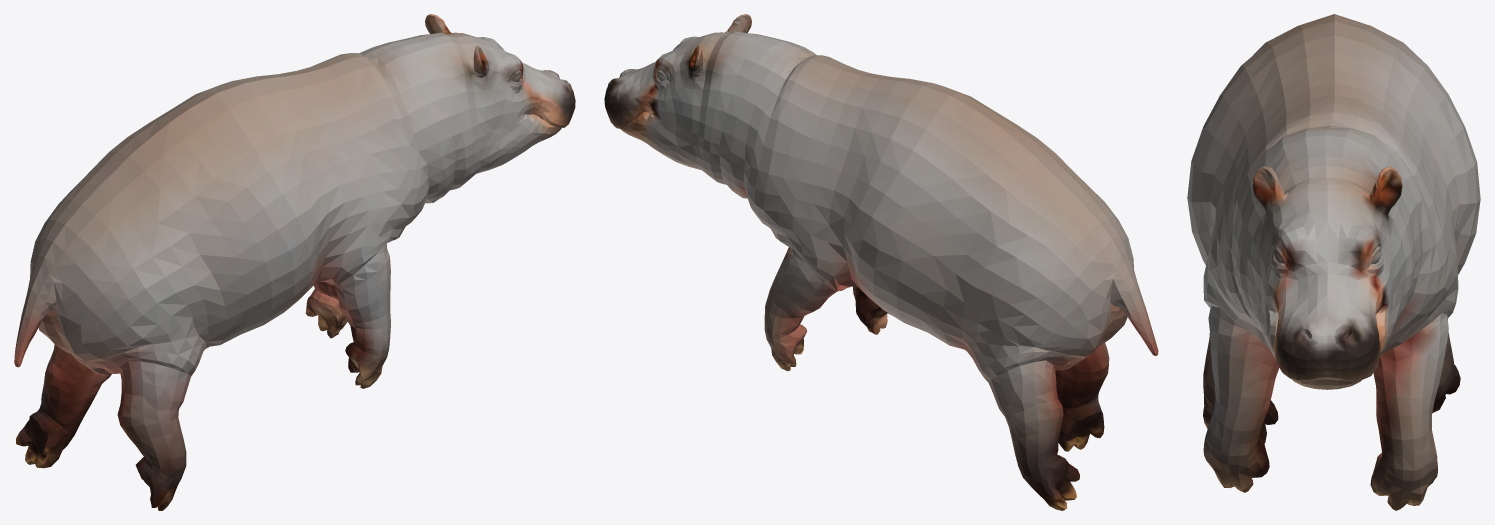
File: The_juvenile_hippopotamus_swims_low_i_f6625608990a.mesh.glb
3 views of the same model, side by side, from view 1: azimuth 30°, elevation 25°; view 2: azimuth 150°, elevation 25°; view 3: azimuth 270°, elevation 25° (orthographic). The views are drawn at different scales.
Parts seen in each view (by area): view 1: root; view 2: root; view 3: root.
Boxes of the visible parts, left/top/right/bottom form: root: left=14, top=14, right=575, bottom=510; root: left=604, top=14, right=1158, bottom=510; root: left=1187, top=14, right=1480, bottom=510.
Bounding box in the file's own units: 0.7165 × 0.4601 × 0.2431.
Materials: 1 (1 with a texture image).
